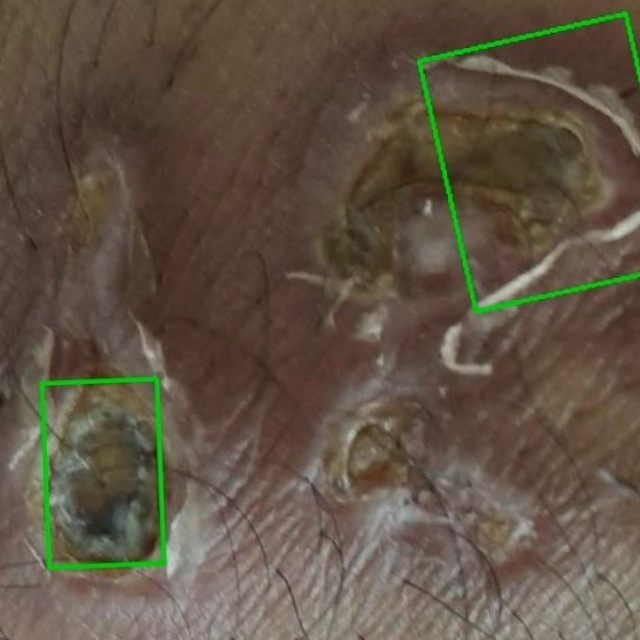Contact Dermatitis: (419, 13, 639, 311), (41, 379, 164, 567)
